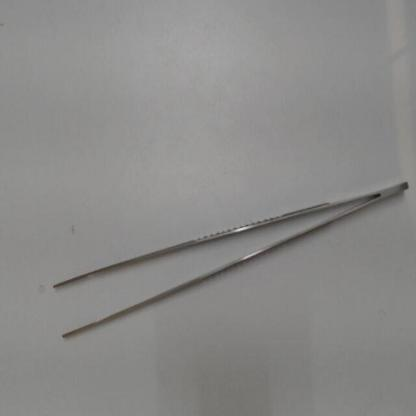DeBakey Dissector: (43, 155, 416, 360)
